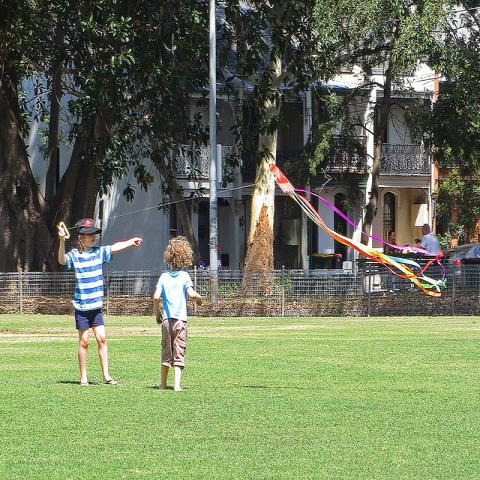car: (442, 241, 479, 265)
